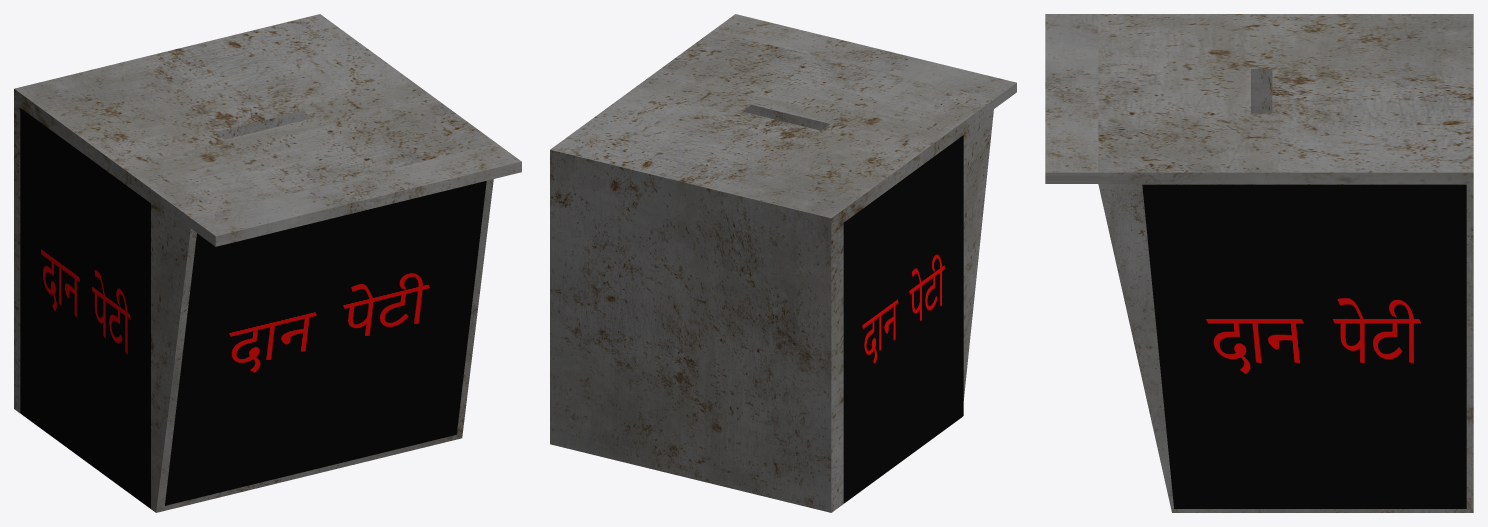
The model's file is Daan Peti.fbx.
3 renders of one model, left to right at view 1: azimuth 30°, elevation 25°; view 2: azimuth 150°, elevation 25°; view 3: azimuth 270°, elevation 25°, orthographic. The views are drawn at different scales.
Visible parts, largest first — view 1: Daan Peti Text.001; view 2: Daan Peti Text.001; view 3: Daan Peti Text.001.
Part boxes in pixels (x1,y1,x2,y2): Daan Peti Text.001: [14, 14, 521, 512]; Daan Peti Text.001: [550, 14, 1016, 512]; Daan Peti Text.001: [1045, 14, 1473, 512].
Bounding box in the file's own units: 202 × 200 × 228.
